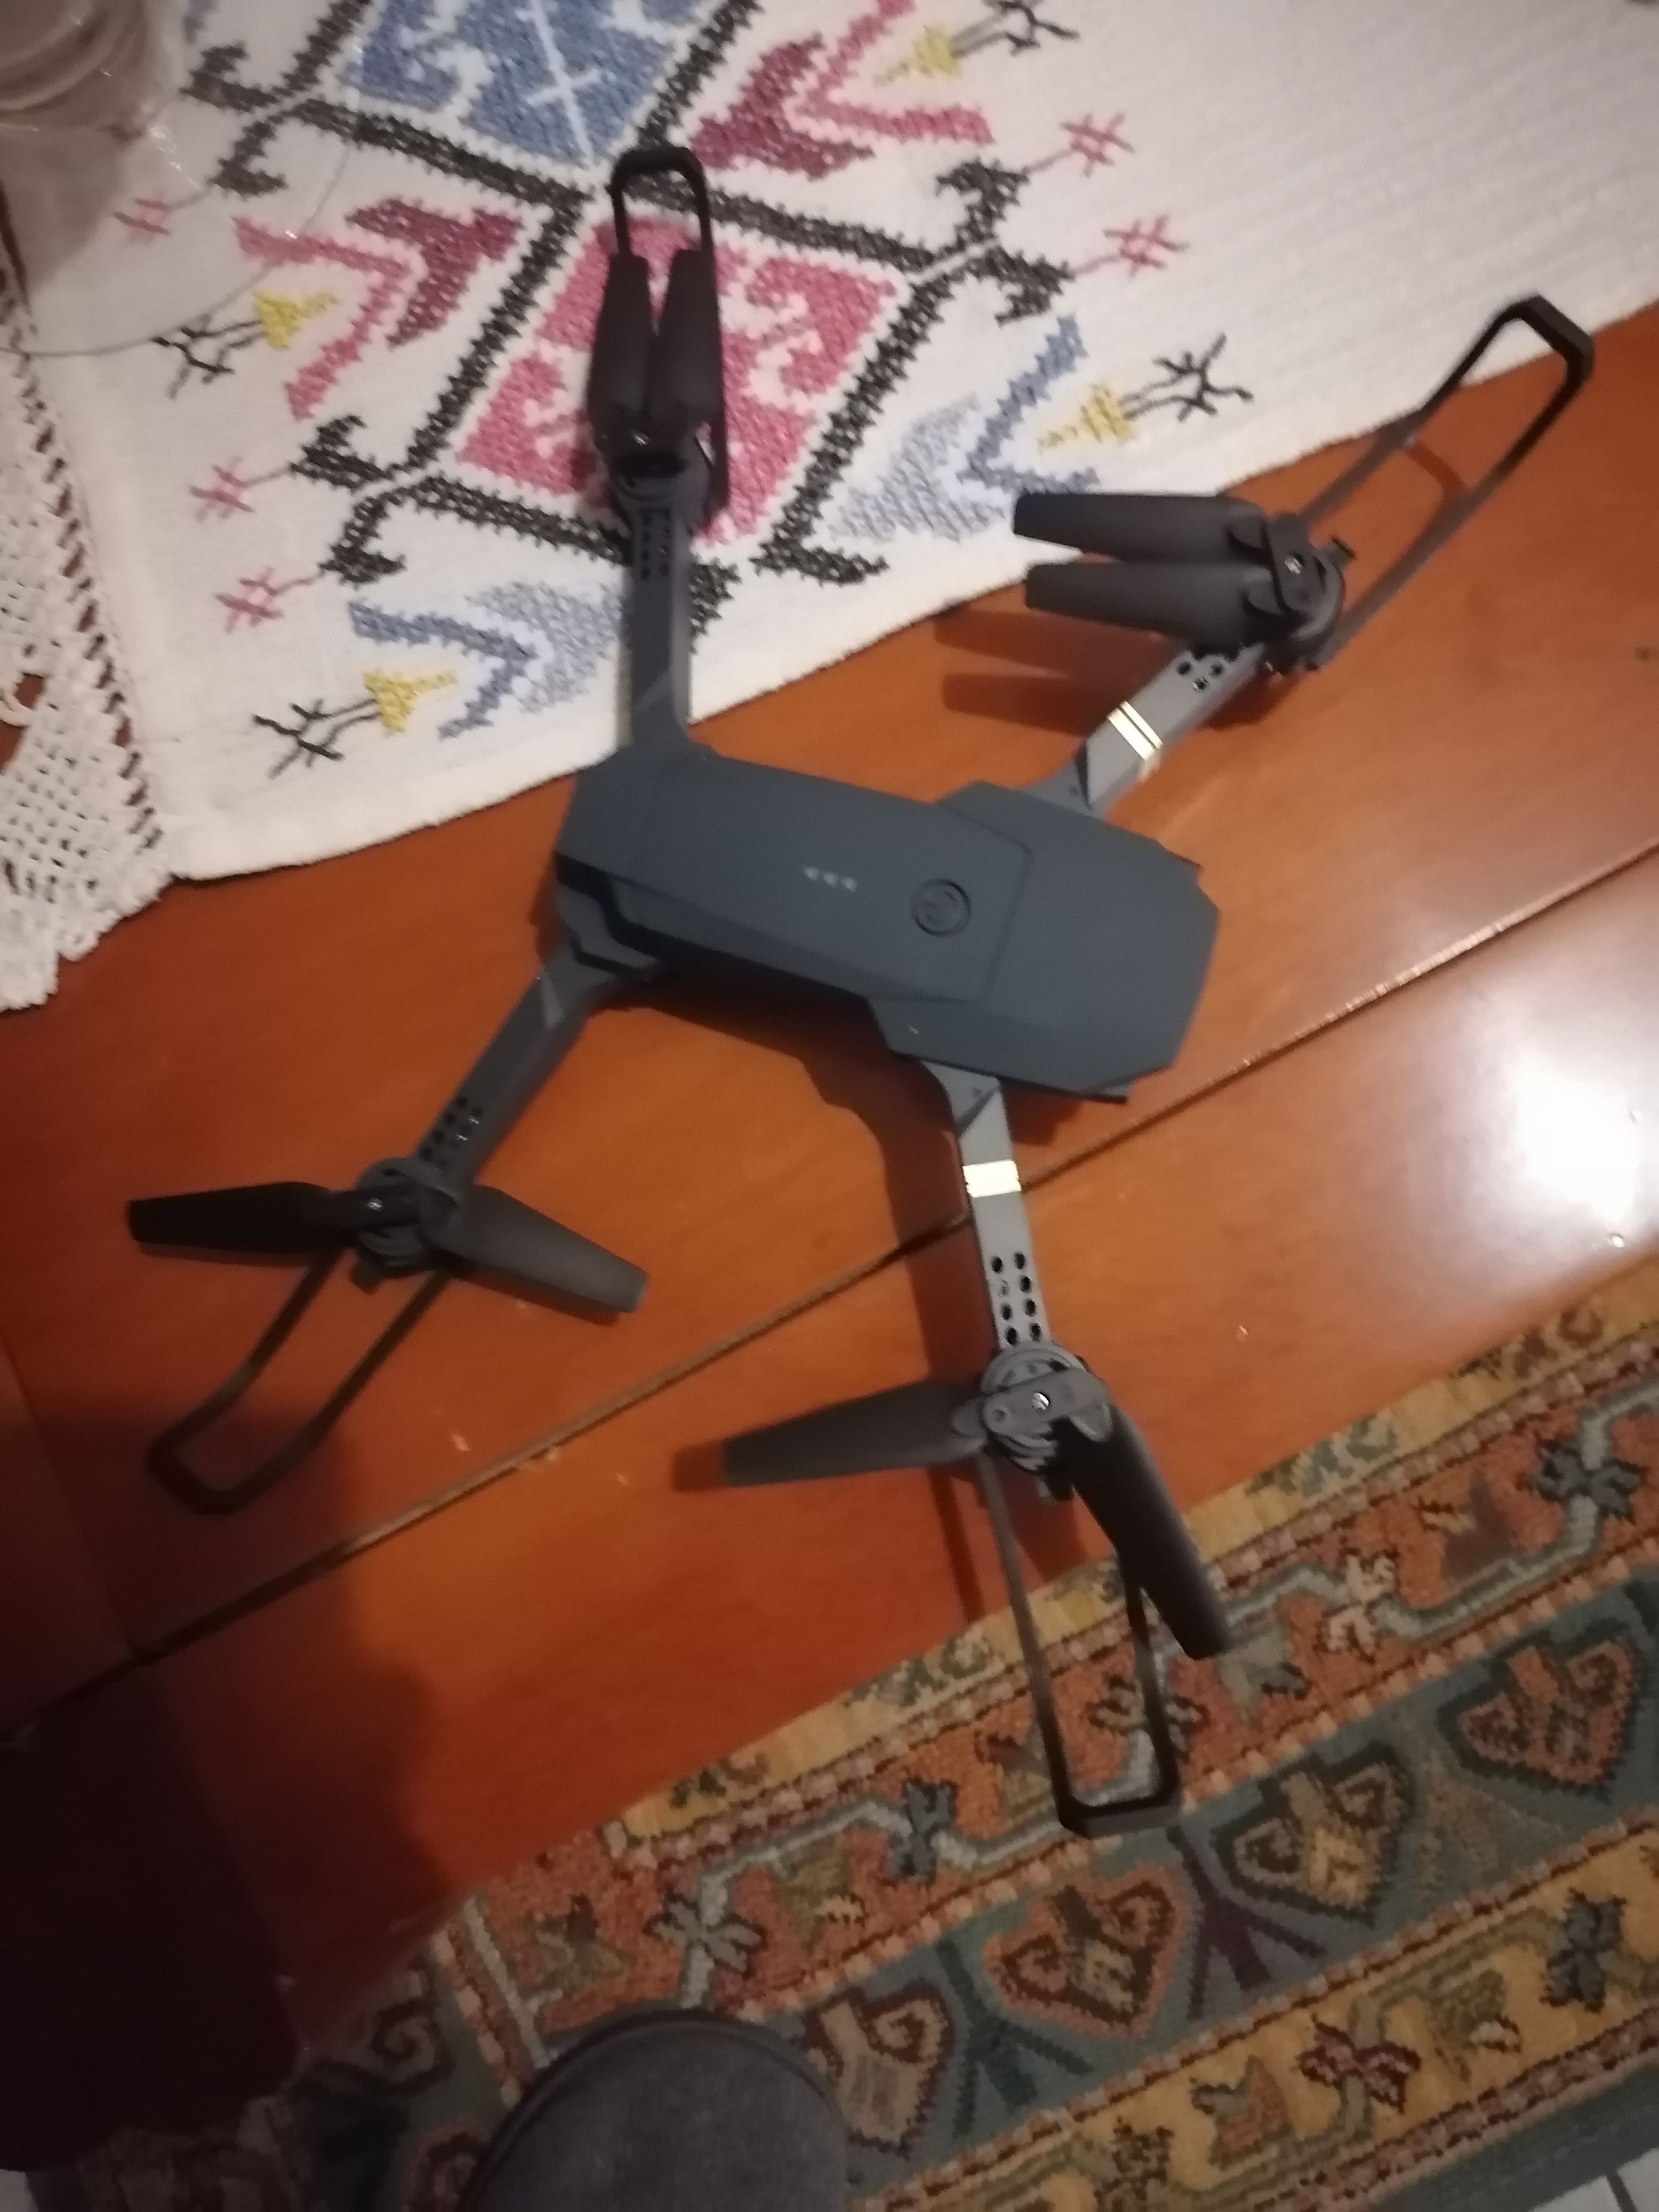drone: (234, 111, 1572, 1921)
